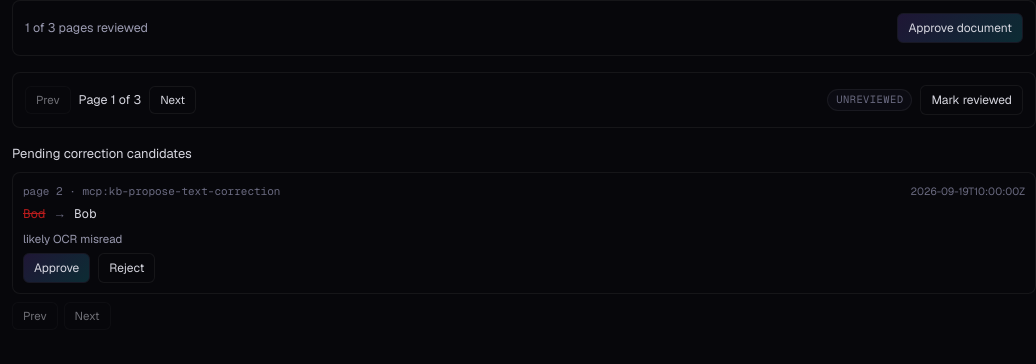
ReviewTab › renders a non-approval outcome with its reason, not as an error
Click the button with test id "kb-review-approve".
click(960, 28)  # box 897,13 -> 1023,43
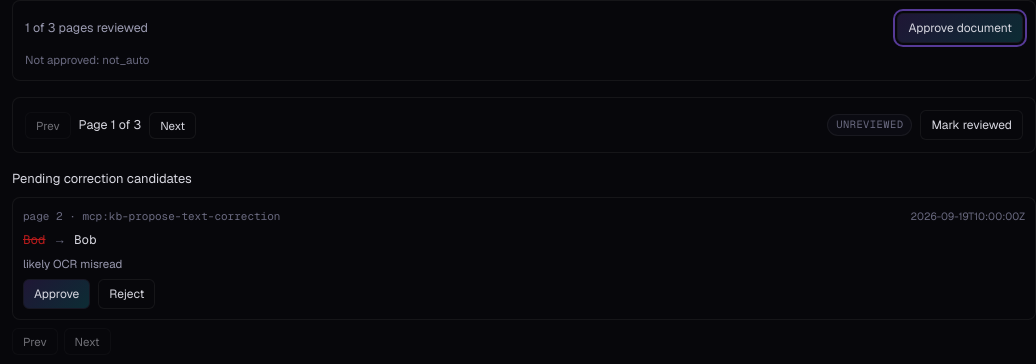
Result: the text with test id "kb-review-approve-result" reads "Not approved: not_auto" at 25,52 -> 150,67
